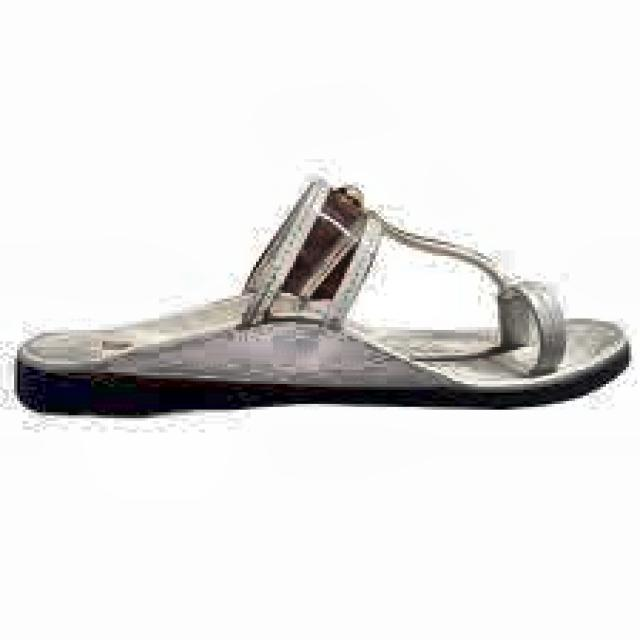shoes: (10, 168, 630, 421)
